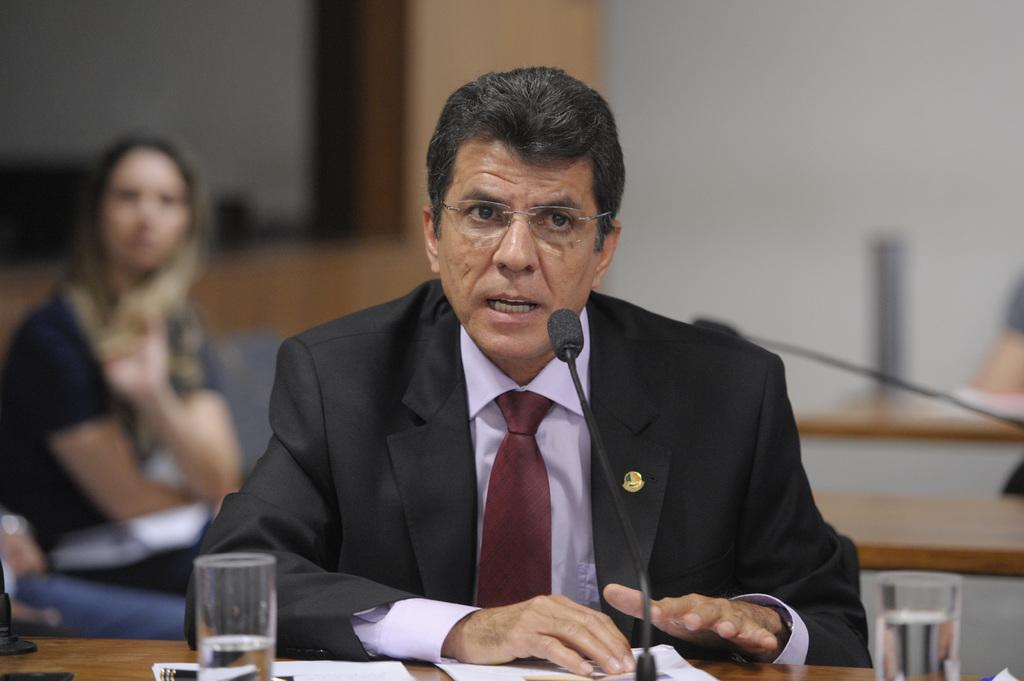Sem Máscara: (438, 119, 599, 356)
